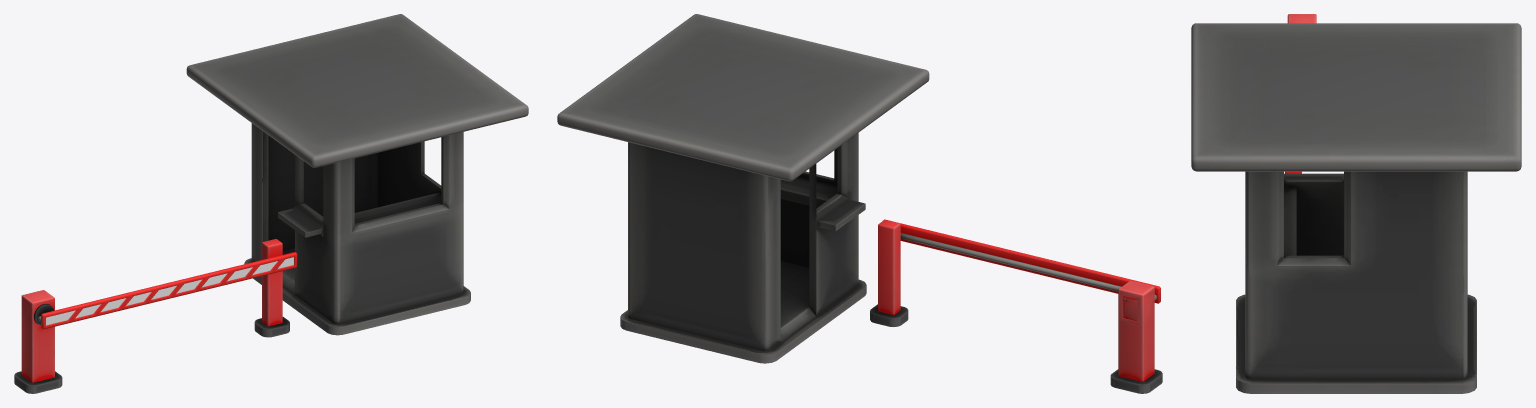
File: checkpoint.glb
The picture shows the model from 3 angles, left to right: view 1: azimuth 30°, elevation 25°; view 2: azimuth 150°, elevation 25°; view 3: azimuth 270°, elevation 25°; orthographic projection. The views are drawn at different scales.
Parts seen in each view (by area): view 1: Guard House, Gate Stands, Gate Fence; view 2: Guard House, Gate Stands, Gate Fence; view 3: Guard House, Gate Stands.
Part boxes in pixels (box(x1,y1,x2,y2)): Guard House: box(186, 14, 528, 335); Gate Stands: box(14, 239, 289, 393); Gate Fence: box(38, 252, 297, 329); Guard House: box(557, 14, 929, 363); Gate Stands: box(870, 220, 1162, 393); Gate Fence: box(883, 219, 1160, 303); Guard House: box(1191, 23, 1521, 393); Gate Stands: box(1285, 14, 1316, 173).
Size of the model in its own units: 12.24 by 5.03 by 5.8.
3 materials, 3 textured.
